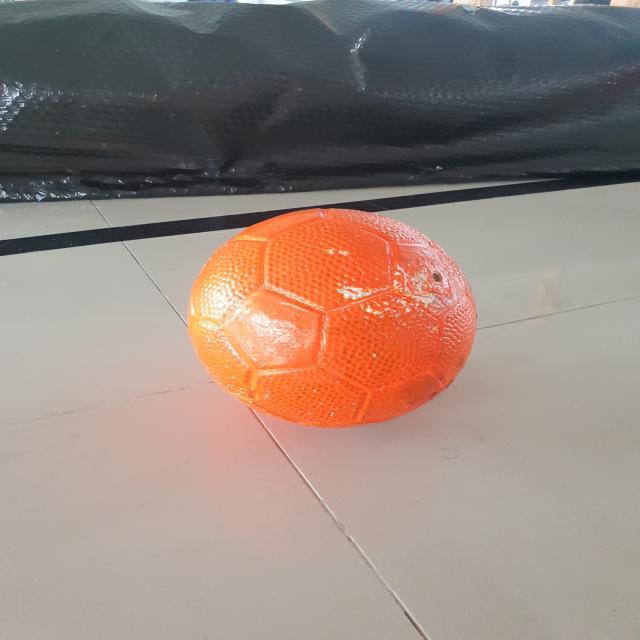bola: (175, 194, 486, 436)
